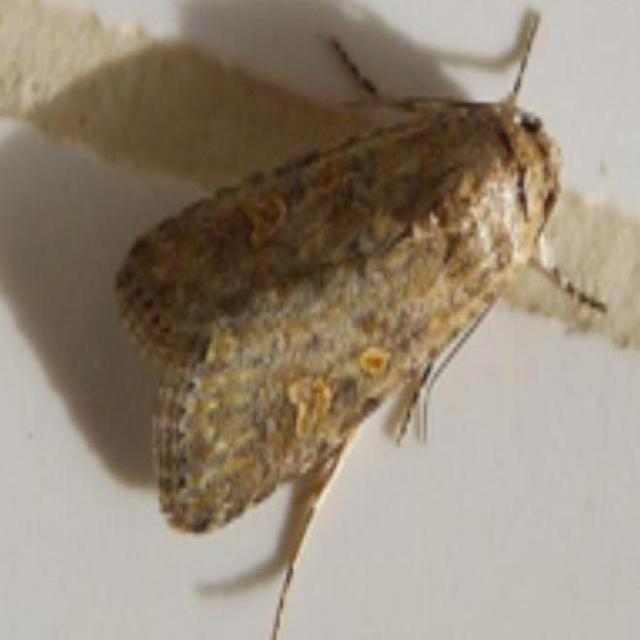BeetArmyWorm-Adult-: (91, 69, 570, 562)
